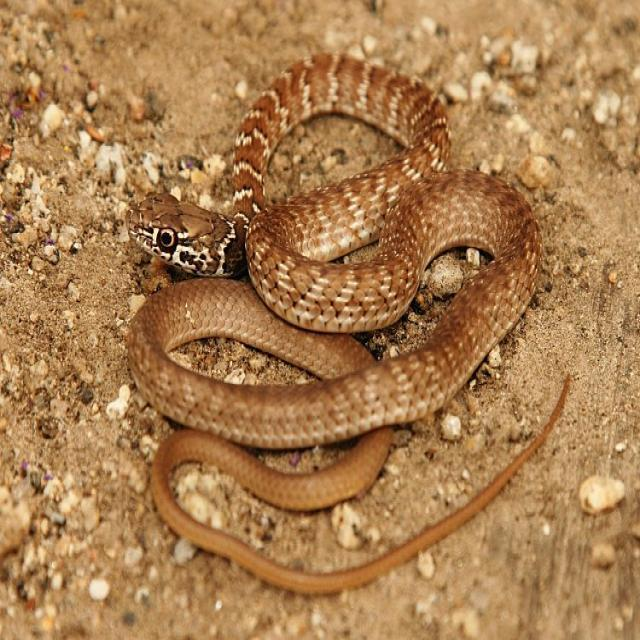Snake: (124, 48, 568, 594)
